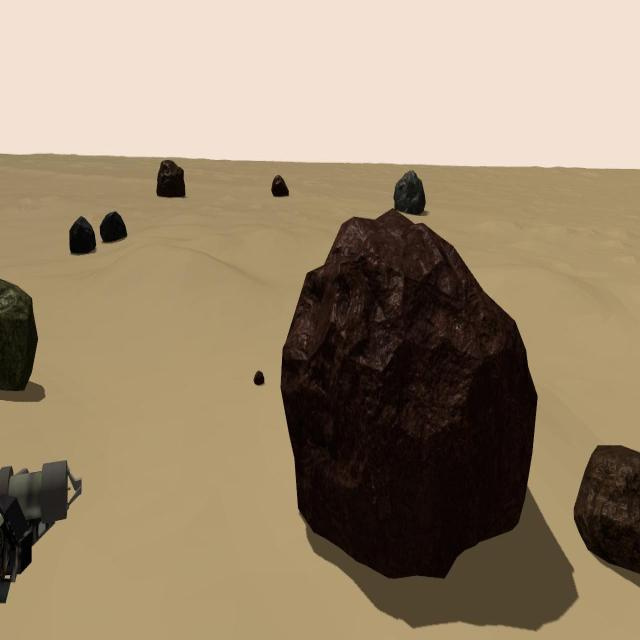rock: (279, 209, 538, 579), (574, 445, 640, 573), (0, 278, 38, 392), (393, 169, 425, 214), (156, 161, 185, 198), (69, 216, 96, 254), (100, 212, 127, 241), (272, 175, 288, 197), (253, 370, 264, 385)
